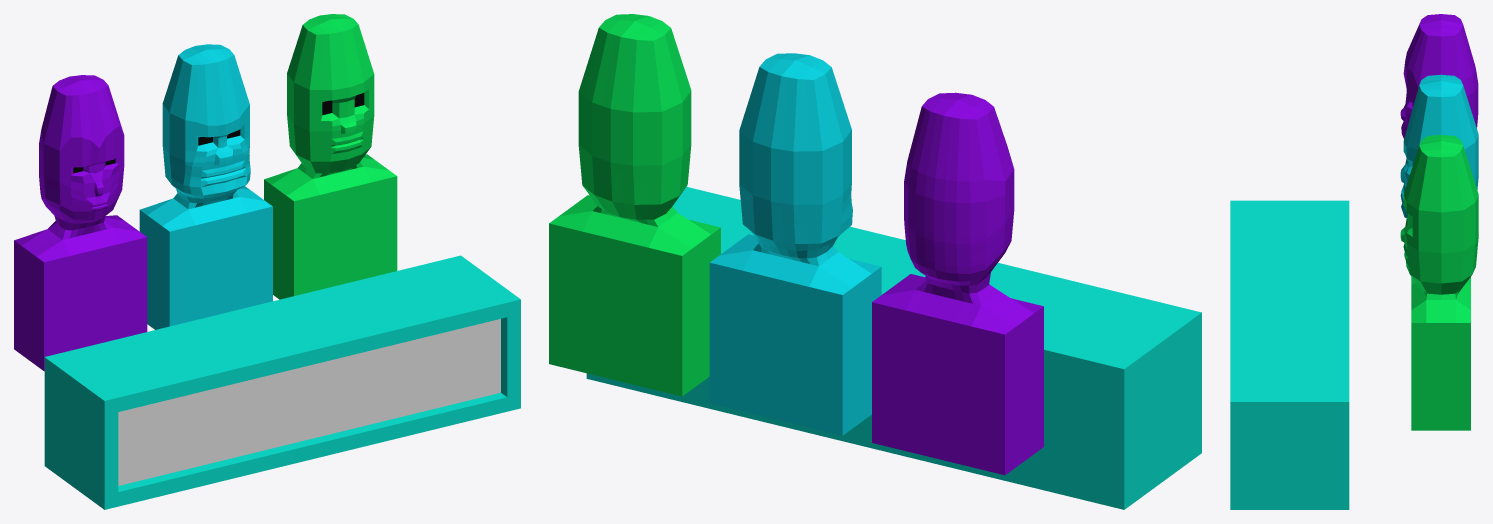
Rendered from Judges.fbx.
The picture shows the model from 3 angles, left to right: view 1: azimuth 30°, elevation 25°; view 2: azimuth 150°, elevation 25°; view 3: azimuth 270°, elevation 25°; orthographic projection. The views are drawn at different scales.
Visible parts, largest first — view 1: Cube; view 2: Cube; view 3: Cube.
Part boxes in pixels (left/top/right/bottom): Cube: left=14, top=14, right=520, bottom=509; Cube: left=549, top=14, right=1201, bottom=509; Cube: left=1230, top=14, right=1478, bottom=509.
Bounding box in the file's own units: 4 × 3.04 × 2.09.
